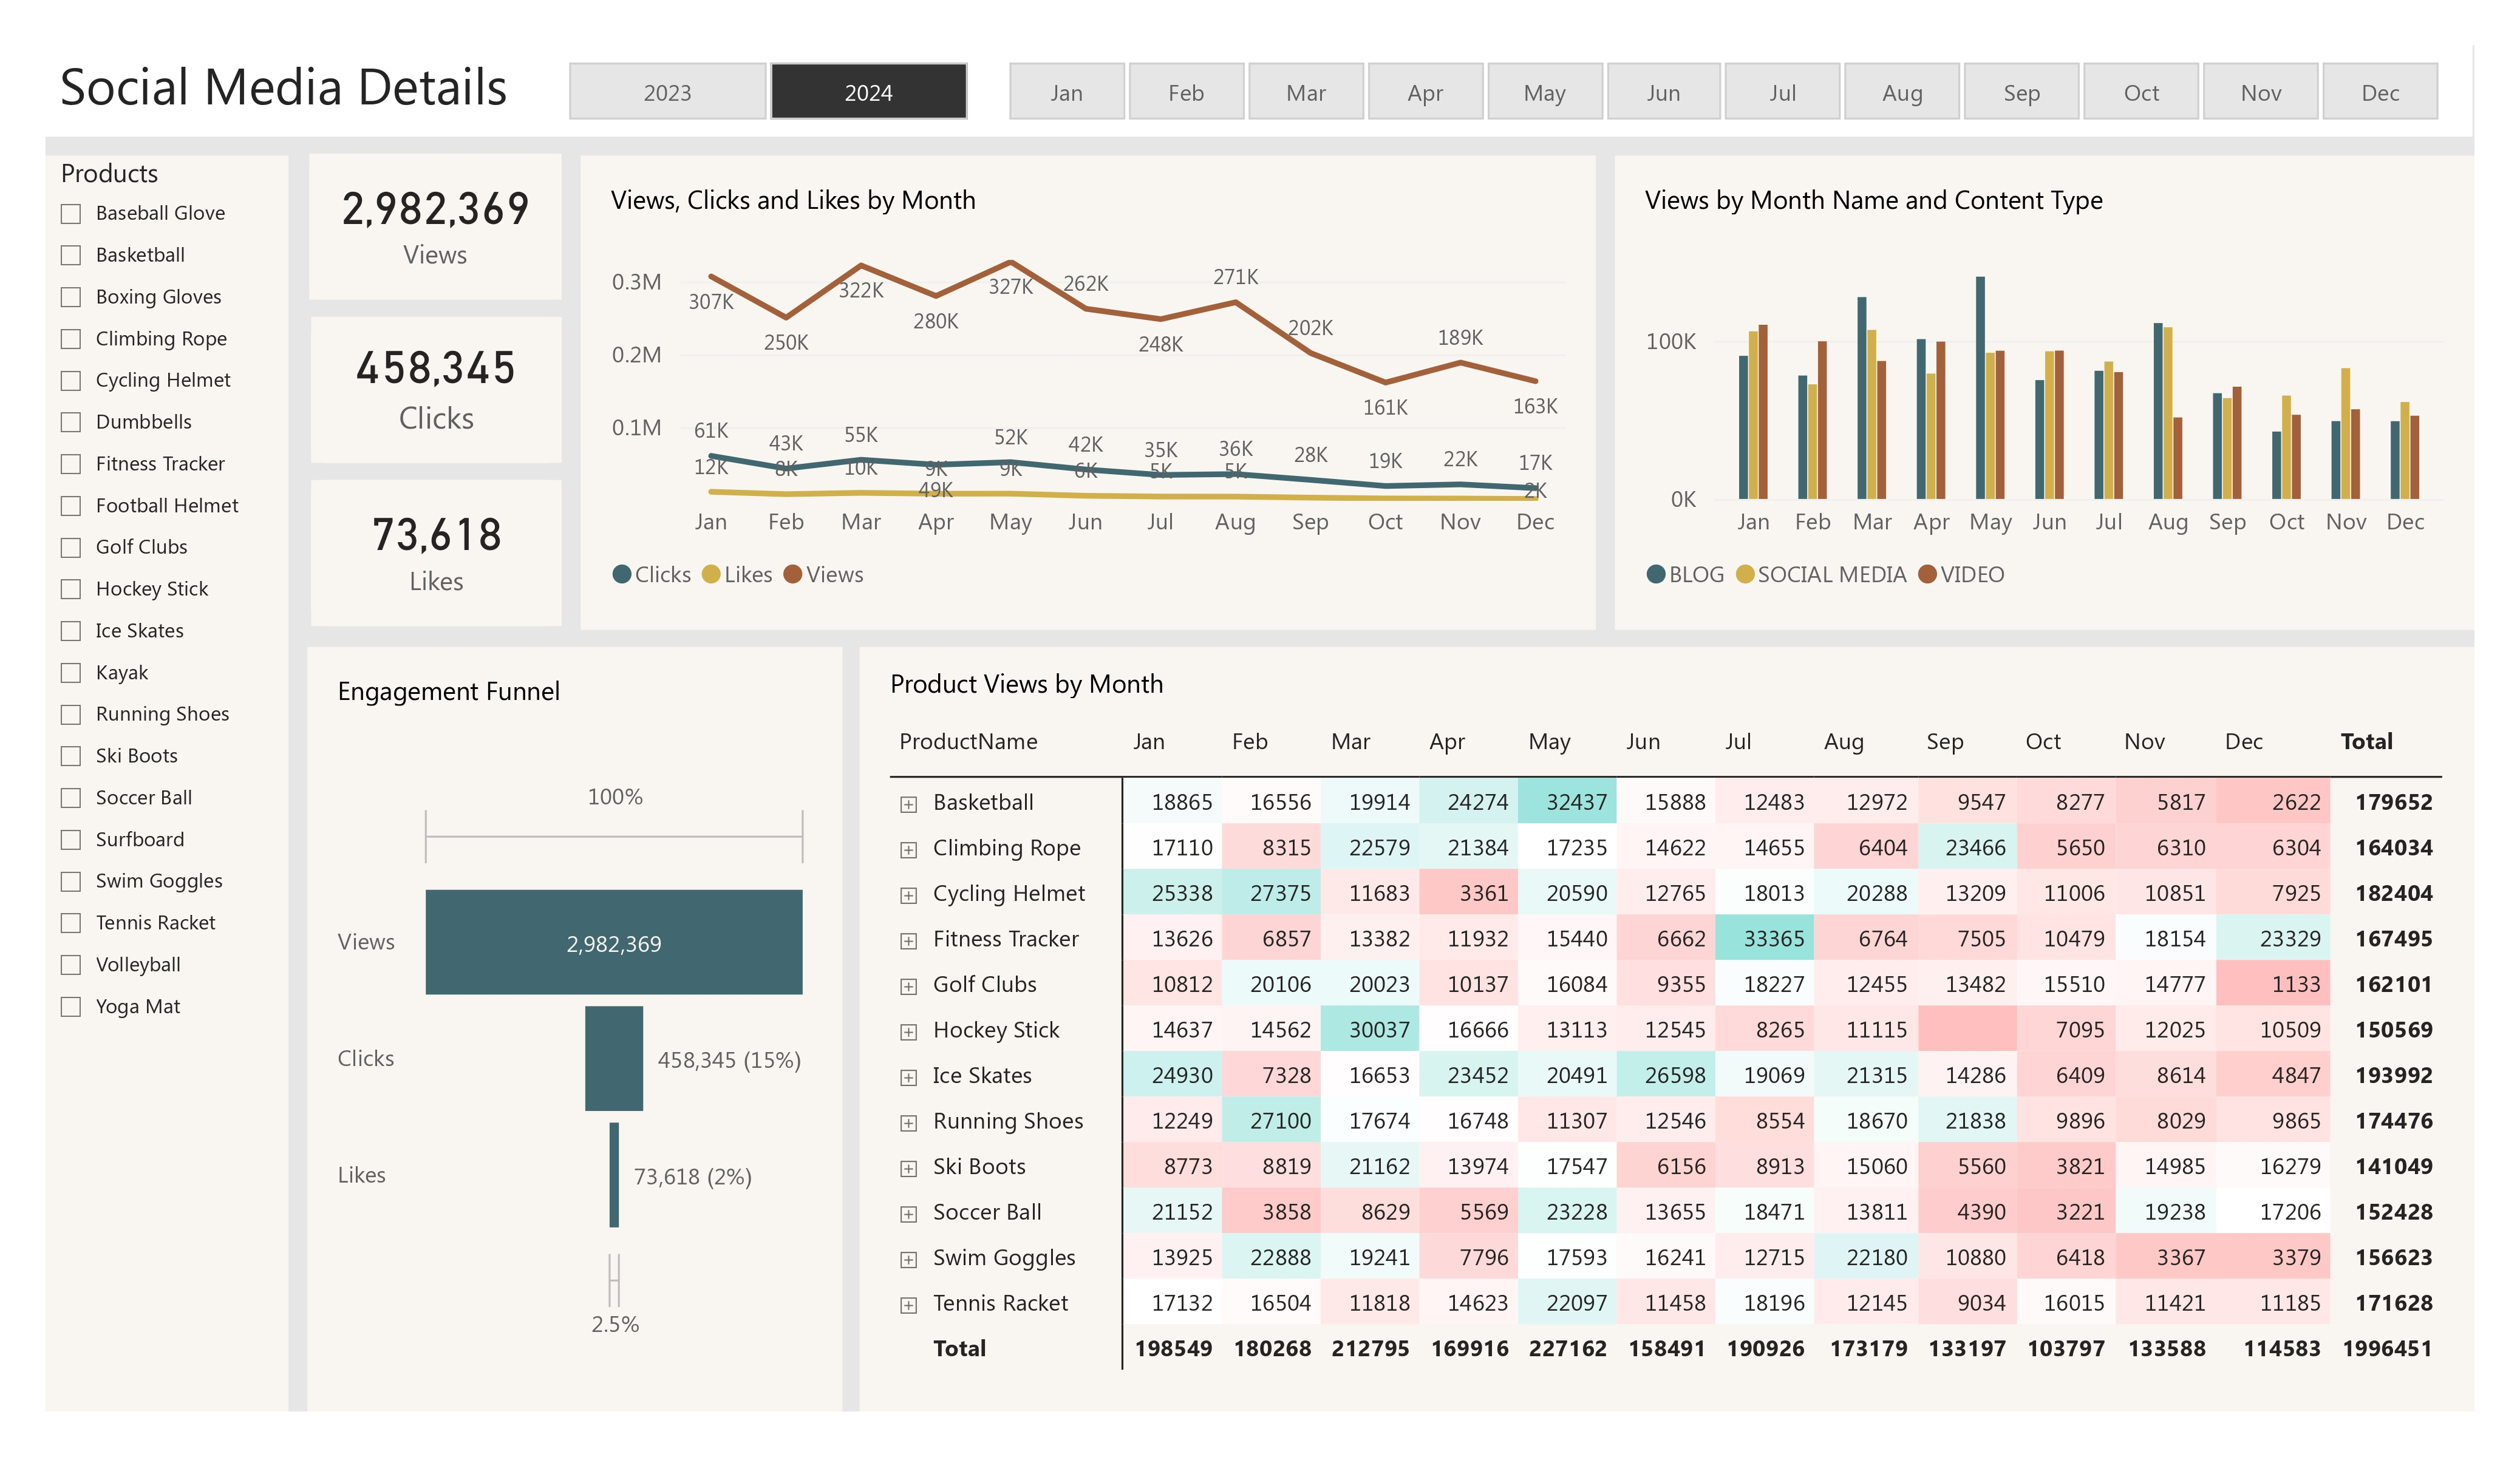

The dashboard page shown, as its layout file describes it:
{"tool":"powerbi","page":{"name":"Social Media Details","canvas":[1280,720],"ordinal":2},"visuals":[{"type":"shape","box":[0,0,1279,48],"z":0,"group":"g1"},{"type":"lineChart","title":"Views, Clicks and Likes by Month","fields":{"Category":["Calendar.MonthNameShort"],"Y":["_Calculations.Clicks","_Calculations.Likes","_Calculations.Views"]},"box":[282.2,57.8,534.4,250],"z":0},{"type":"pivotTable","title":"Product Views by Month","fields":{"Columns":["Calendar.MonthNameShort"],"Rows":["dim_products.ProductName","fact_engagement.ContentType"],"Values":["_Calculations.Views"]},"box":[428.9,316.7,851.1,403.3],"z":1000},{"type":"textbox","box":[0,2.2,255.6,43.3],"z":2000,"group":"g1"},{"type":"clusteredColumnChart","title":"Views by Month Name and Content Type","fields":{"Category":["Calendar.MonthNameShort"],"Series":["fact_engagement.ContentType"],"Y":["_Calculations.Views"]},"box":[826.7,57.8,453.3,250],"z":2000},{"type":"slicer","fields":{"Values":["dim_products.ProductName"]},"box":[0,57.5,127.5,662.5],"z":3000},{"type":"group","id":"g1","title":"Group 1","box":[0,0,1280,48],"z":4000},{"type":"funnel","title":"Engagement Funnel","fields":{"Y":["_Calculations.Views","_Calculations.Clicks","_Calculations.Likes"]},"box":[137.8,316.7,282.2,403.3],"z":5000},{"type":"cardVisual","fields":{"Data":["_Calculations.Views"]},"box":[138.5,56.8,133.8,77],"z":6000},{"type":"cardVisual","fields":{"Data":["_Calculations.Likes"]},"box":[139.8,229.2,132.5,77],"z":7000},{"type":"cardVisual","fields":{"Data":["_Calculations.Clicks"]},"box":[139.8,143,132.5,77],"z":8000},{"type":"slicer","fields":{"Values":["Calendar.Year"]},"box":[255,7.1,250,33.8],"z":14000,"group":"g1"},{"type":"slicer","fields":{"Values":["Calendar.MonthNameShort"]},"box":[486.7,6.8,793.3,34.4],"z":15000,"group":"g1"}]}

Visuals, with their boxes on the page's 1280x720 design canvas (x1, y1, x2, y2). These are canvas units, not pixel positions in the 2520x1457 screenshot, which may show the page scaled, cropped or inside an application window:
shape: rect(0, 0, 1279, 48)
"Views, Clicks and Likes by Month" lineChart: rect(282, 58, 817, 308)
"Product Views by Month" pivotTable: rect(429, 317, 1280, 720)
textbox: rect(0, 2, 256, 46)
"Views by Month Name and Content Type" clusteredColumnChart: rect(827, 58, 1280, 308)
slicer - dim_products.ProductName: rect(0, 58, 128, 720)
"Group 1" group: rect(0, 0, 1280, 48)
"Engagement Funnel" funnel: rect(138, 317, 420, 720)
cardVisual - _Calculations.Views: rect(138, 57, 272, 134)
cardVisual - _Calculations.Likes: rect(140, 229, 272, 306)
cardVisual - _Calculations.Clicks: rect(140, 143, 272, 220)
slicer - Calendar.Year: rect(255, 7, 505, 41)
slicer - Calendar.MonthNameShort: rect(487, 7, 1280, 41)
